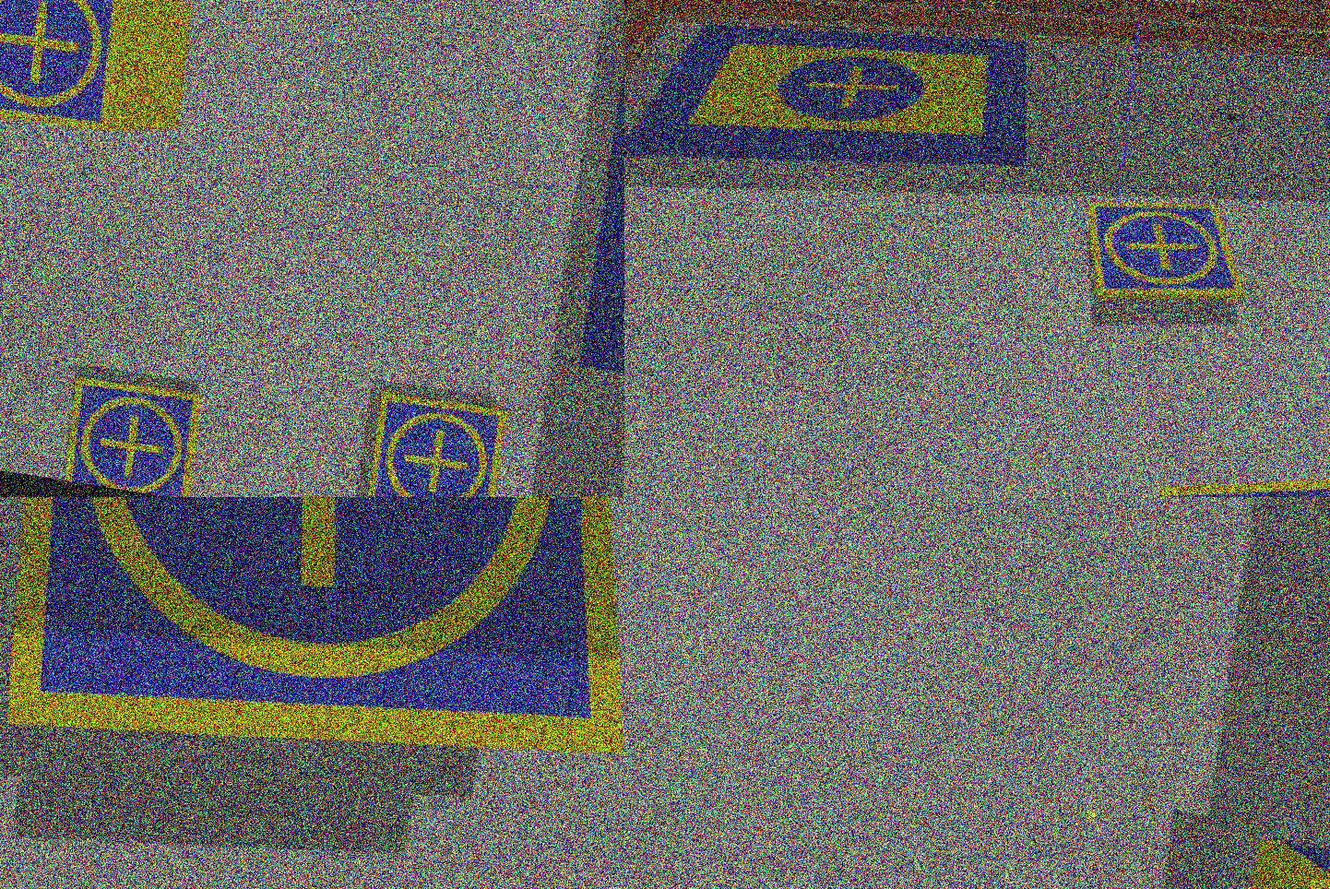large_base: (624, 1, 1050, 220)
small_base: (1, 498, 624, 824), (1071, 184, 1260, 325), (56, 371, 208, 498), (1, 1, 137, 141), (361, 387, 513, 498)
